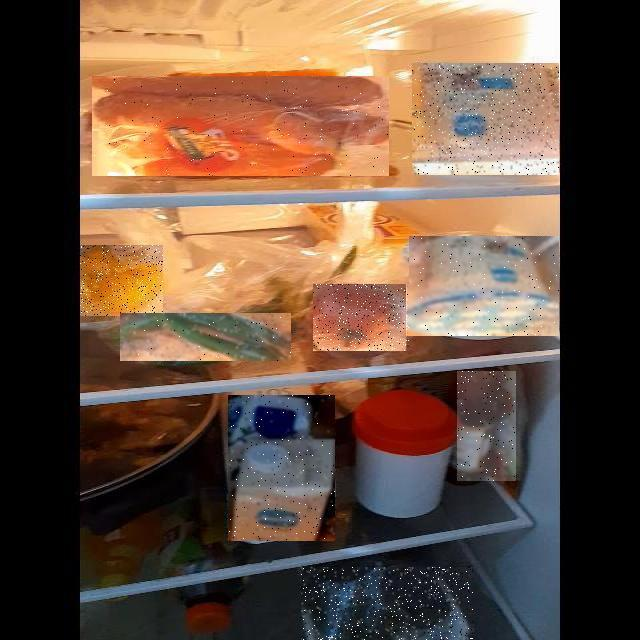Broccoli: (302, 567, 474, 640)
Carrot: (92, 76, 389, 176)
Chillies: (120, 313, 291, 361)
Lemon: (80, 245, 163, 316)
Milk: (228, 395, 335, 541)
Sauce: (457, 371, 516, 481)
Tomato Paste: (314, 284, 410, 351)
Yoghurt: (412, 63, 559, 175), (409, 236, 559, 336)
